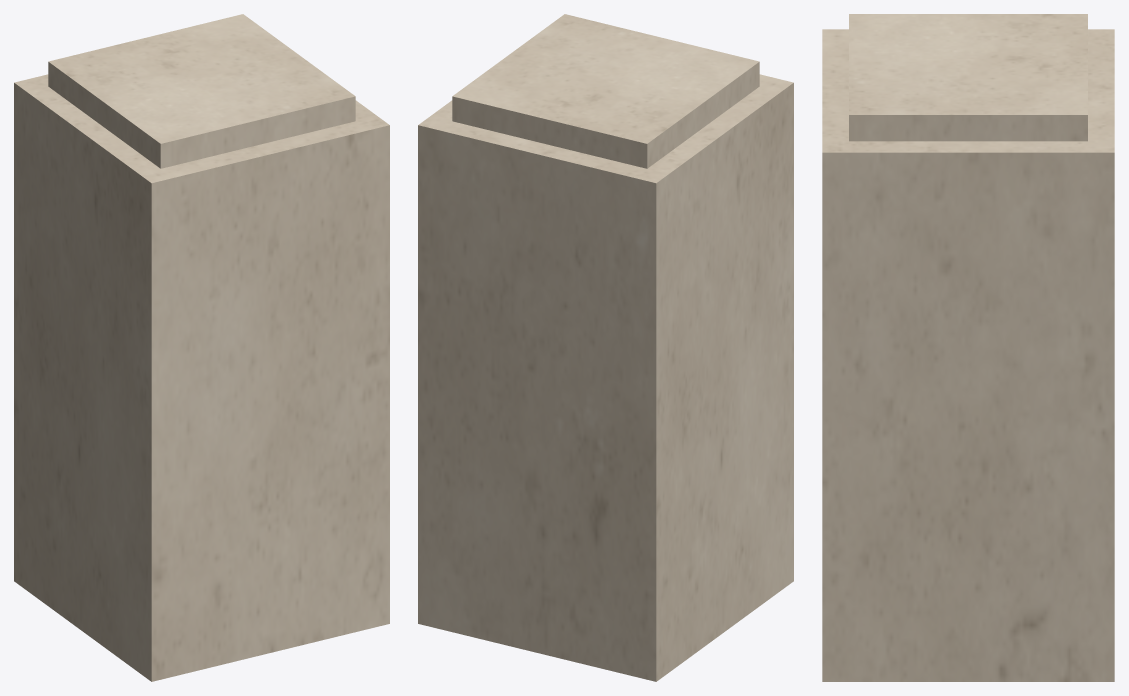
Rendered from Pedestal.gltf.
3 views of the same model, side by side, from view 1: azimuth 30°, elevation 25°; view 2: azimuth 150°, elevation 25°; view 3: azimuth 270°, elevation 25° (orthographic). The views are drawn at different scales.
Visible parts, largest first — view 1: Cube; view 2: Cube; view 3: Cube.
Part boxes in pixels (x1,y1,x2,y2): Cube: [14, 14, 389, 681]; Cube: [418, 14, 793, 681]; Cube: [822, 14, 1114, 681].
Size of the model in its own units: 1 by 2.1 by 1.
1 material, 1 textured.
